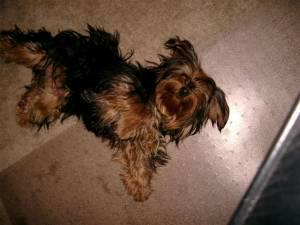dog-yorkshire_terrier: (154, 37, 228, 126)
